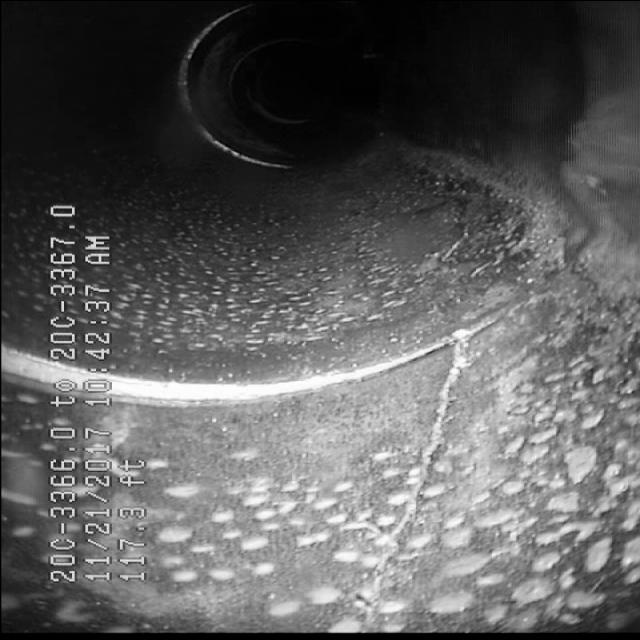Crack: (332, 353, 499, 600)
